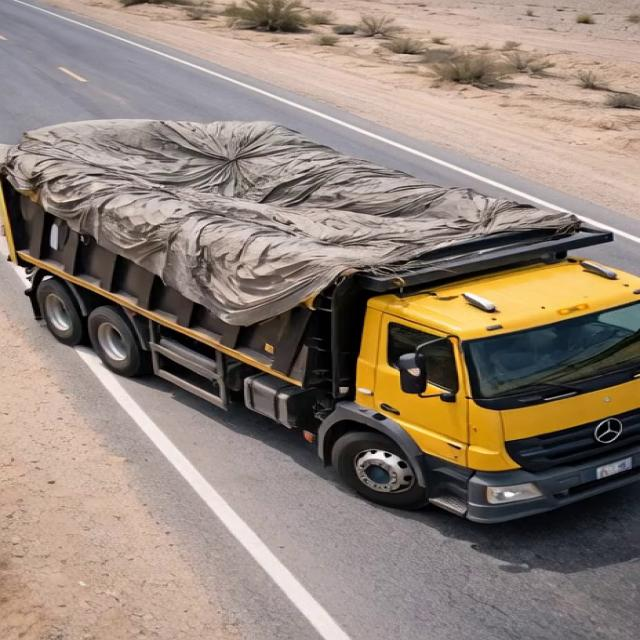Box: (19, 120, 618, 280)
Truck: (3, 99, 626, 533)
